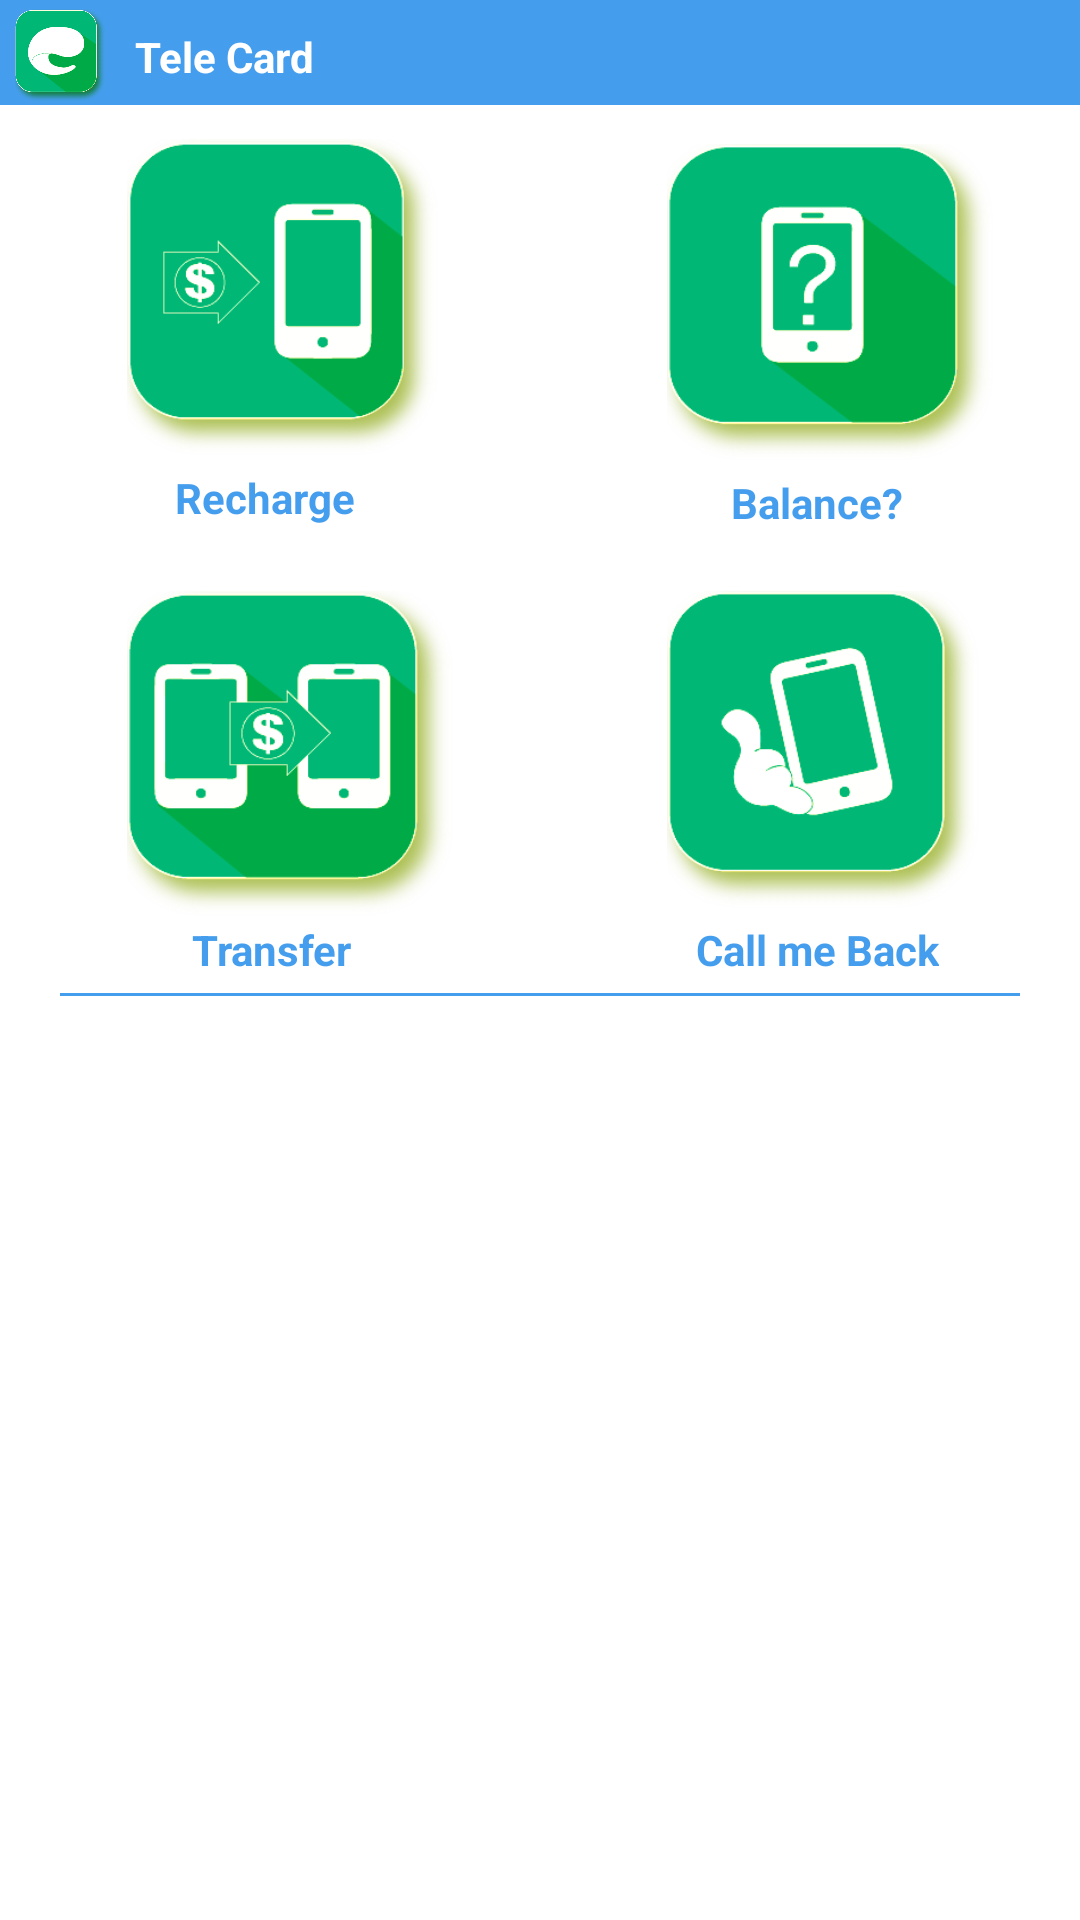

Icons on this 1080w x 1920h Android screen, each with its box as (x1, y1, x2, y2):
ask: (668, 147, 979, 447)
